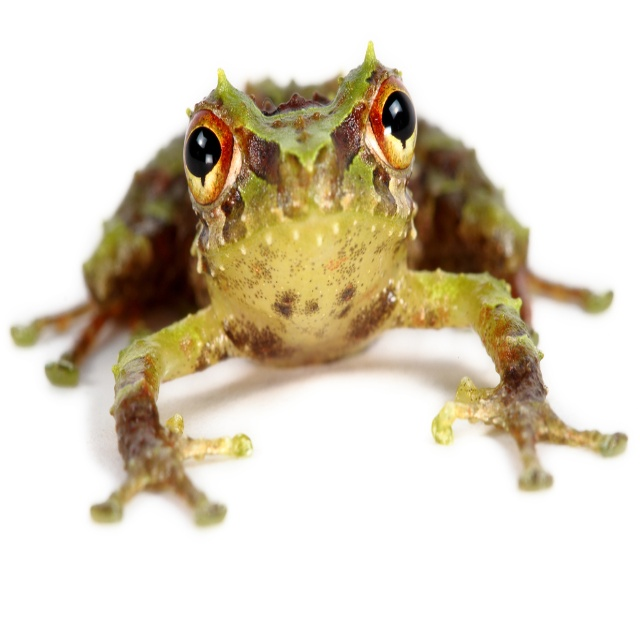Frog: (10, 38, 630, 531)
